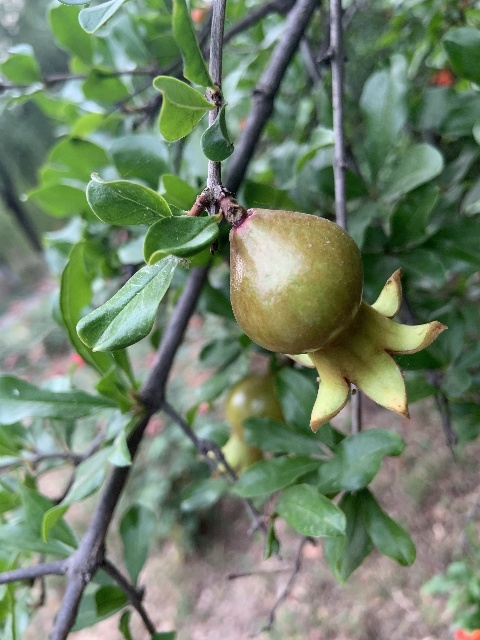early-fruit: (228, 209, 449, 435)
mid-growth: (221, 370, 284, 476)
